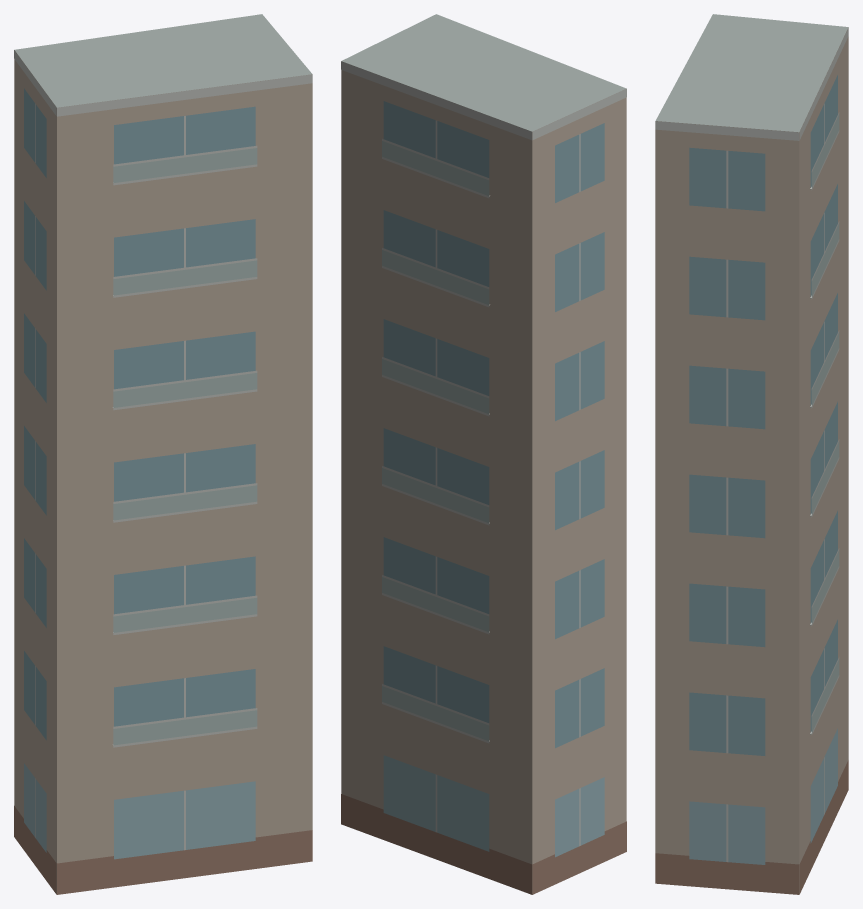
File: survey-upis-32702781.glb
3 views of the same model, side by side, from view 1: azimuth 30°, elevation 25°; view 2: azimuth 150°, elevation 25°; view 3: azimuth 270°, elevation 25° (orthographic). The views are drawn at different scales.
Visible parts, largest first — view 1: survey-upis-32702781.tmp; view 2: survey-upis-32702781.tmp; view 3: survey-upis-32702781.tmp.
Boxes of the visible parts, <box> form: survey-upis-32702781.tmp: <box>14,14,312,894</box>; survey-upis-32702781.tmp: <box>341,14,626,894</box>; survey-upis-32702781.tmp: <box>655,14,848,894</box>.
Bounding box in the file's own units: 7.11 × 21.35 × 4.91.
